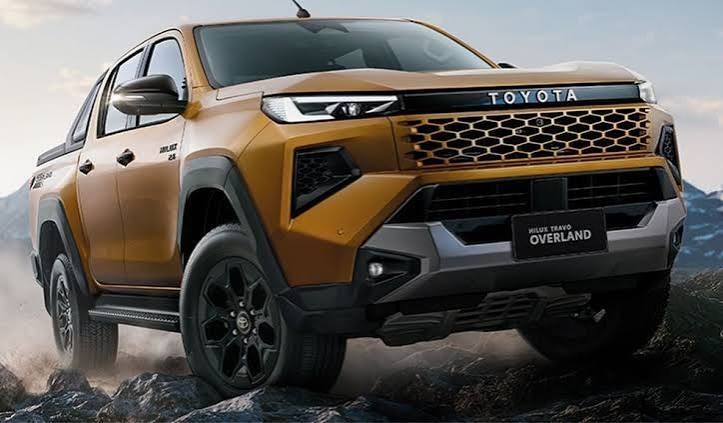car: (15, 13, 697, 406)
